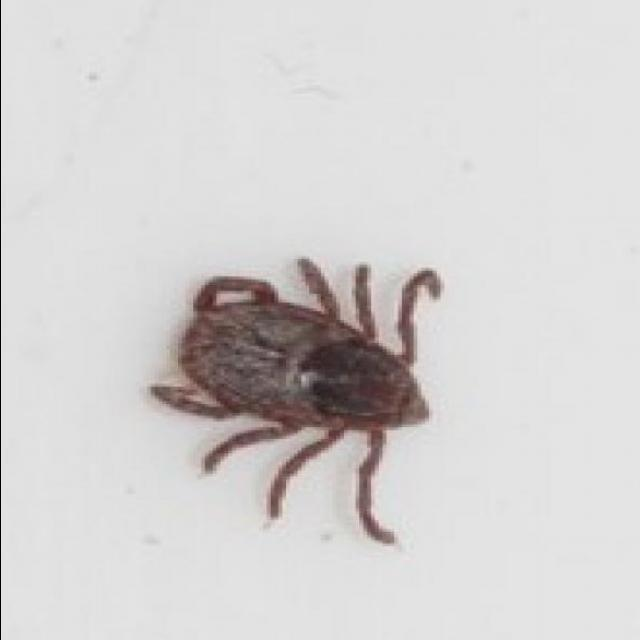Rhipicephalus Sanguineus-F: (142, 256, 440, 546)
